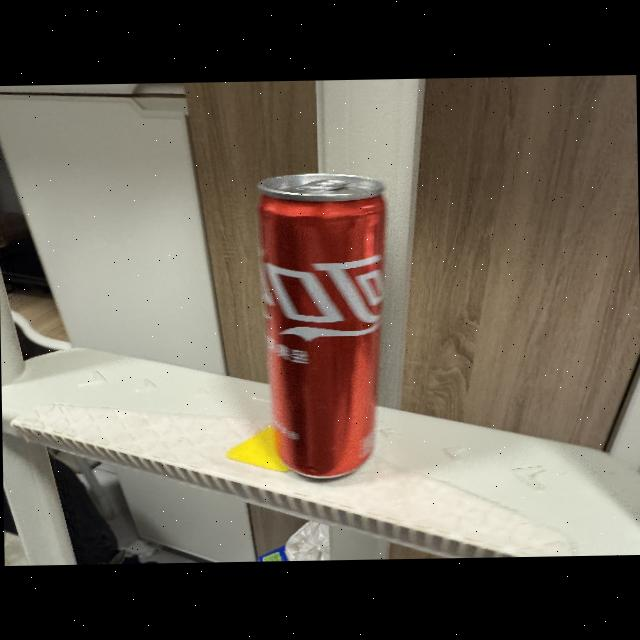Cola: (244, 152, 400, 496)
